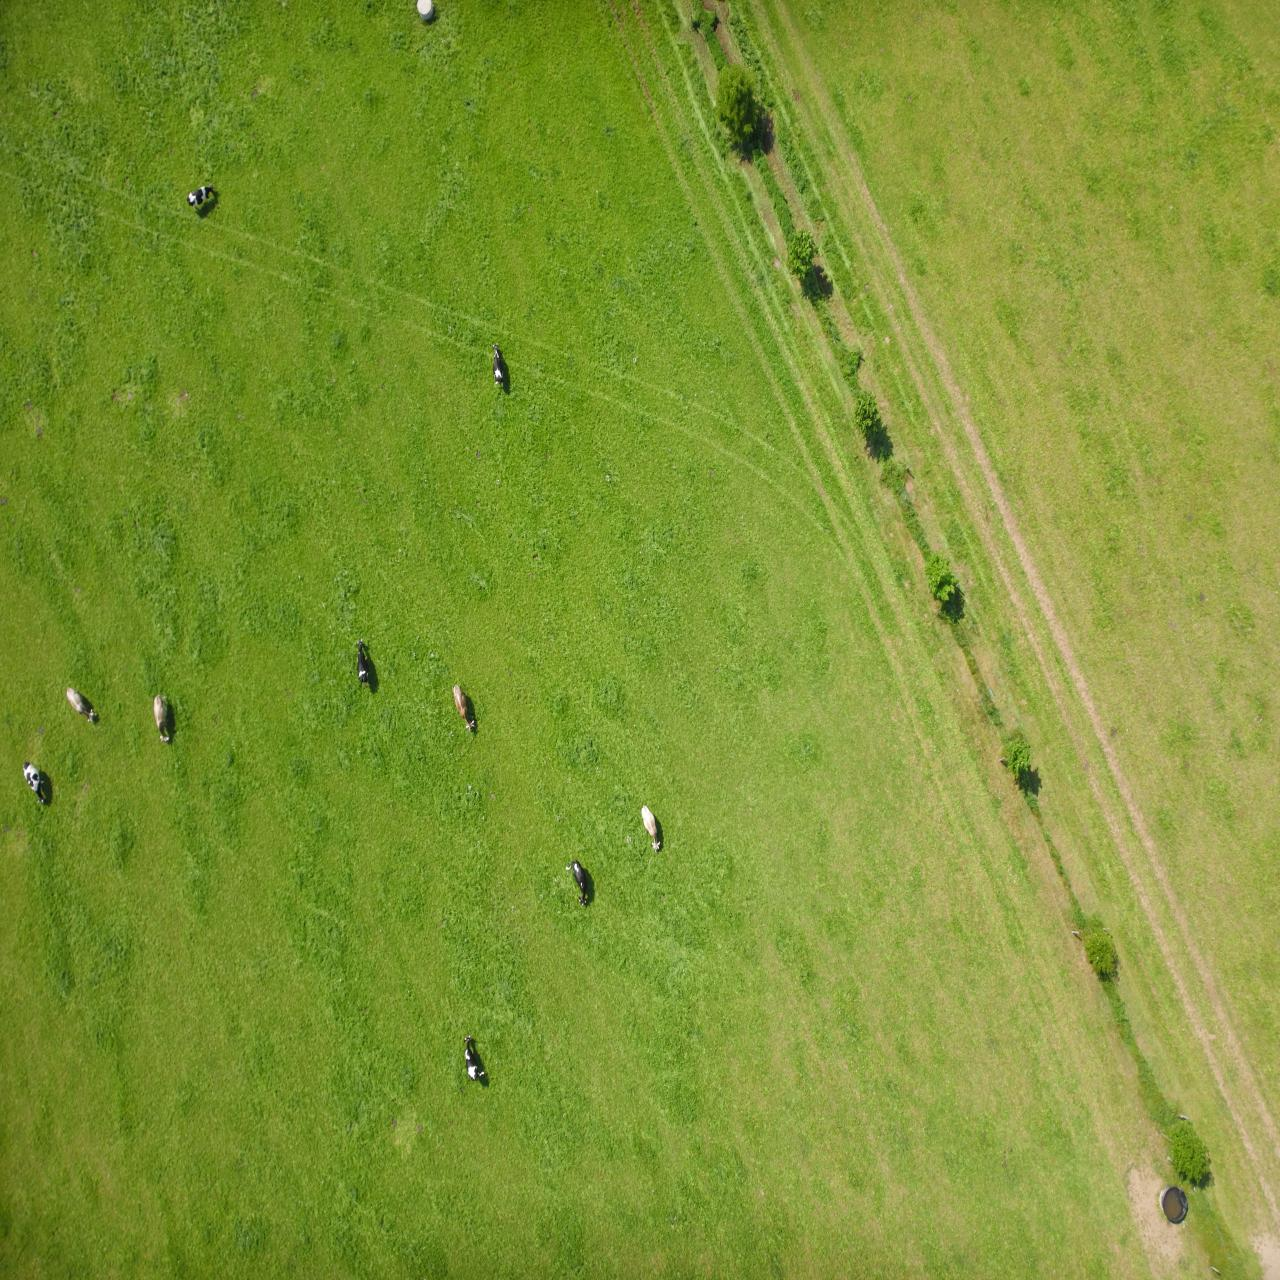cow: (62, 681, 104, 729), (19, 757, 57, 809), (638, 801, 667, 860), (449, 680, 478, 737), (462, 1029, 490, 1088), (568, 857, 595, 915), (151, 688, 179, 743), (186, 176, 218, 224), (352, 636, 376, 692), (489, 342, 510, 396)
